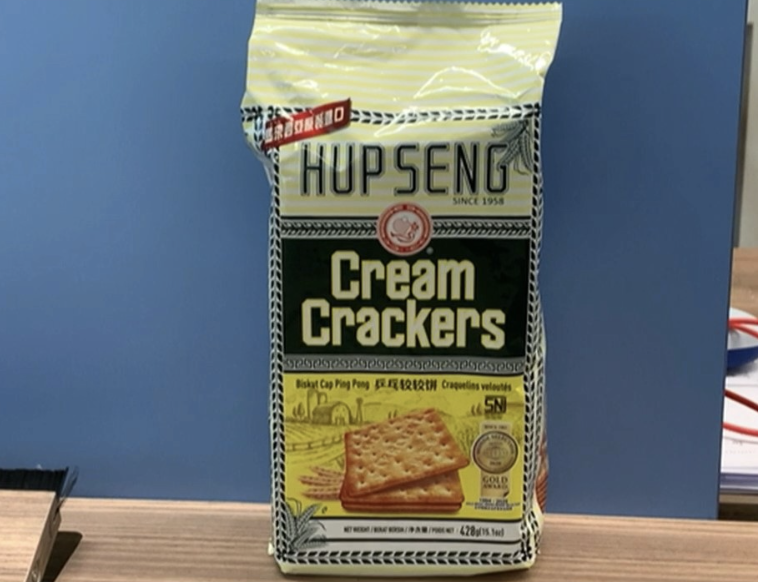crackers_400g-499g: (276, 108, 531, 564)
